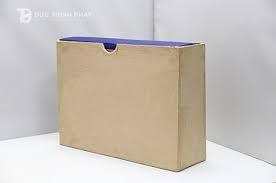box: (57, 36, 207, 172)
